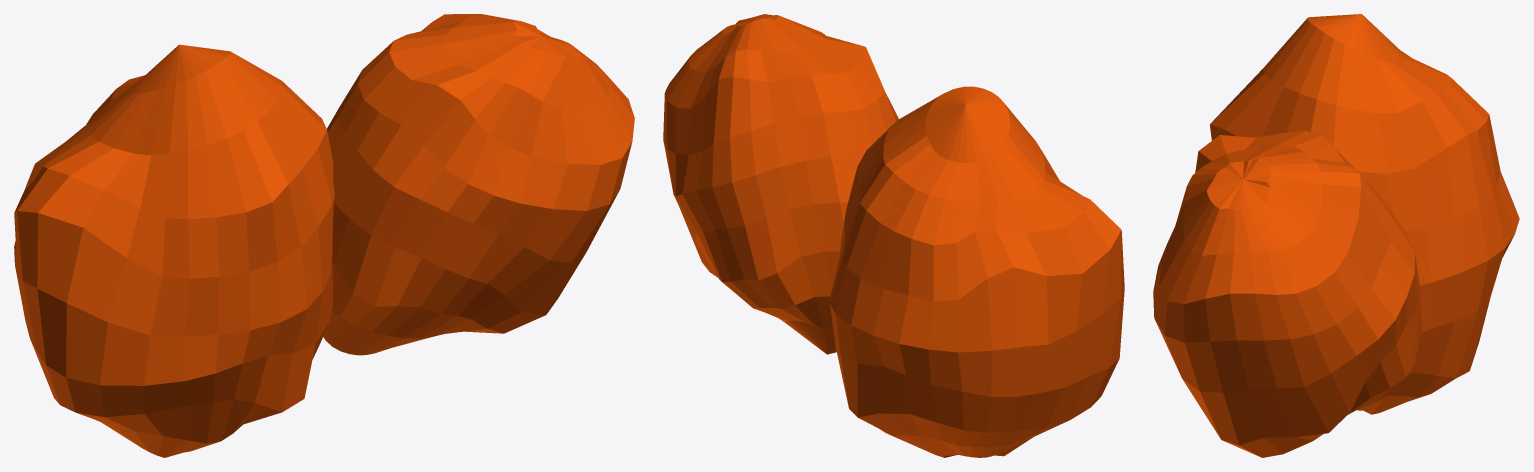
The model's file is tree-autumn-leaves-12-042.glb.
3 views of the same model, side by side, from view 1: azimuth 30°, elevation 25°; view 2: azimuth 150°, elevation 25°; view 3: azimuth 270°, elevation 25° (orthographic). The views are drawn at different scales.
Parts seen in each view (by area): view 1: TREE 12.003_386; view 2: TREE 12.003_386; view 3: TREE 12.003_386.
Part boxes in pixels (box(x1,y1,x2,y2)): TREE 12.003_386: box(14, 14, 634, 457); TREE 12.003_386: box(663, 14, 1124, 457); TREE 12.003_386: box(1153, 14, 1519, 457).
Size of the model in its own units: 1.4 by 0.9692 by 0.828.
